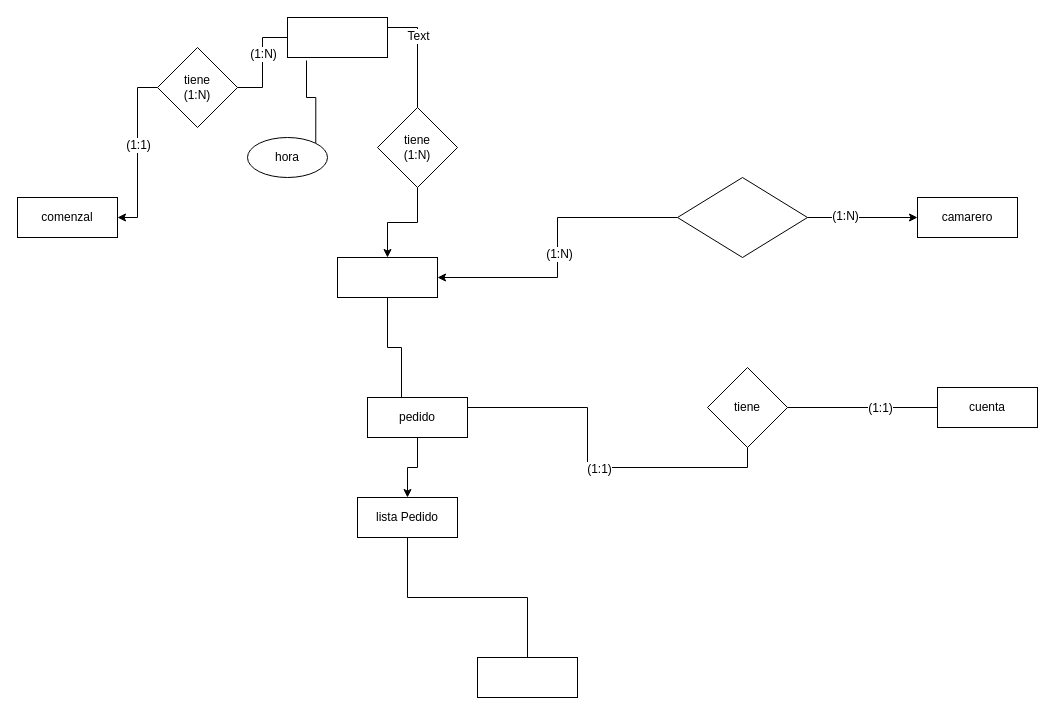
This 1055x715 diagram has some shape labels left out. Here are the shapes that lost their labels. From the top down, the centre of each, then its label:
At (337,37): "reserva".
At (742,217): "mesa_atendida (N:M)".
At (387,277): "mesa".
At (527,677): "menu".
